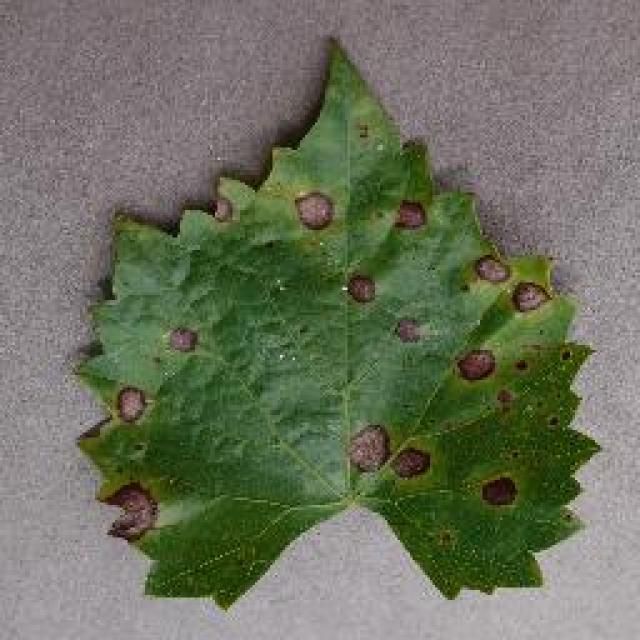Grape___Black_rot: (64, 36, 612, 613)
